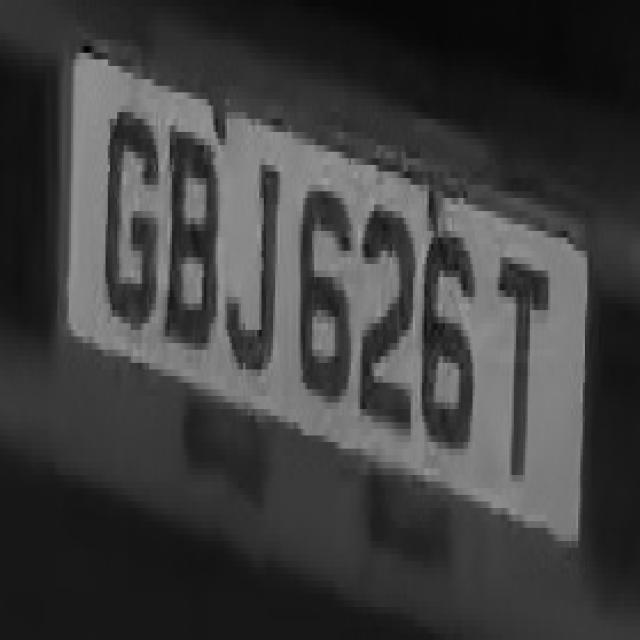2: (353, 178, 415, 442)
6: (415, 204, 477, 462), (291, 172, 358, 402)
B: (165, 79, 213, 363)
G: (96, 86, 158, 343)
J: (225, 132, 287, 369)
T: (488, 238, 550, 488)
